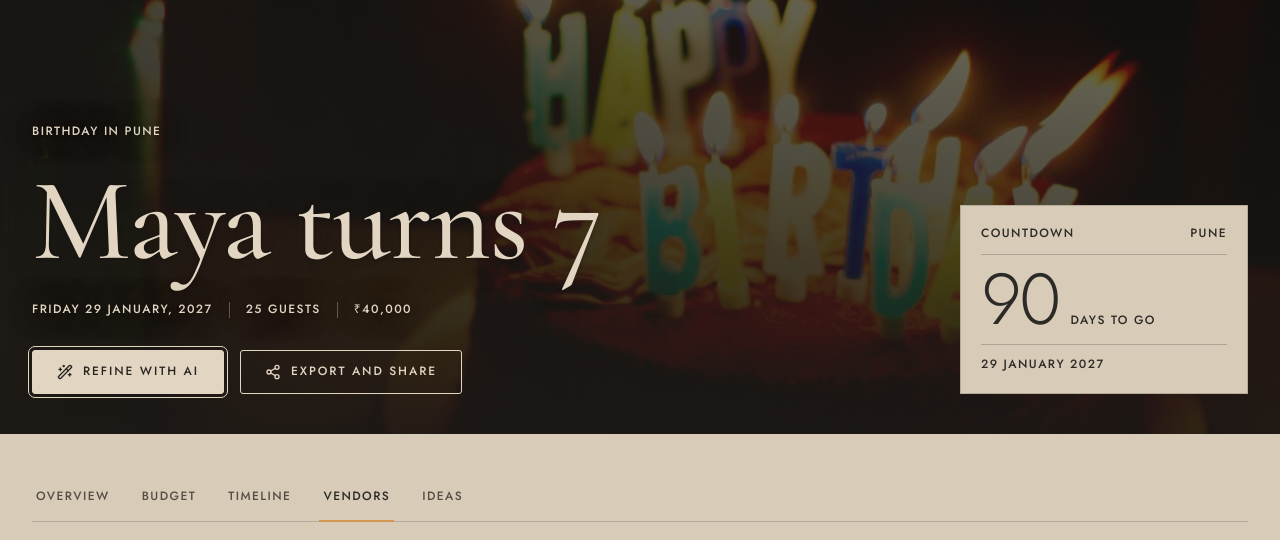
Test: Plan dashboard shell › opens the tab named in the URL hash and keeps the hash in sync
The image size is (1280, 540).
Click the tab "Ideas" at (443, 498), box left=418, top=474, right=467, bottom=522
(page scrolled)
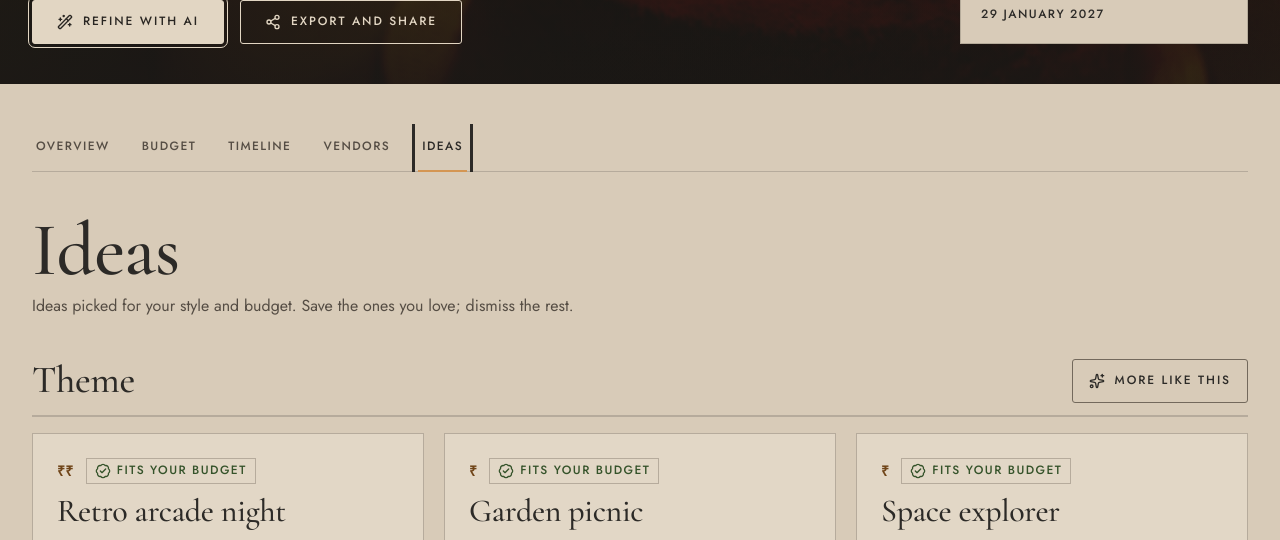
Now the heading "Ideas" is shown, box left=32, top=204, right=179, bottom=296
